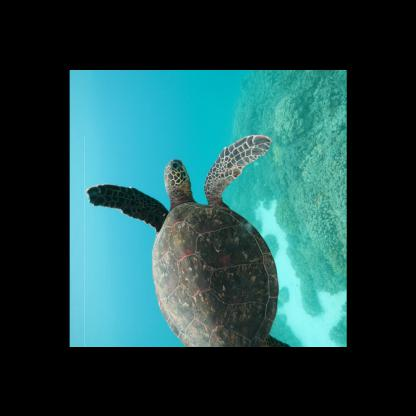turtle: (84, 134, 308, 345)
